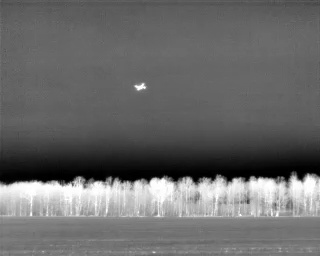DRONE: (131, 79, 151, 95)
